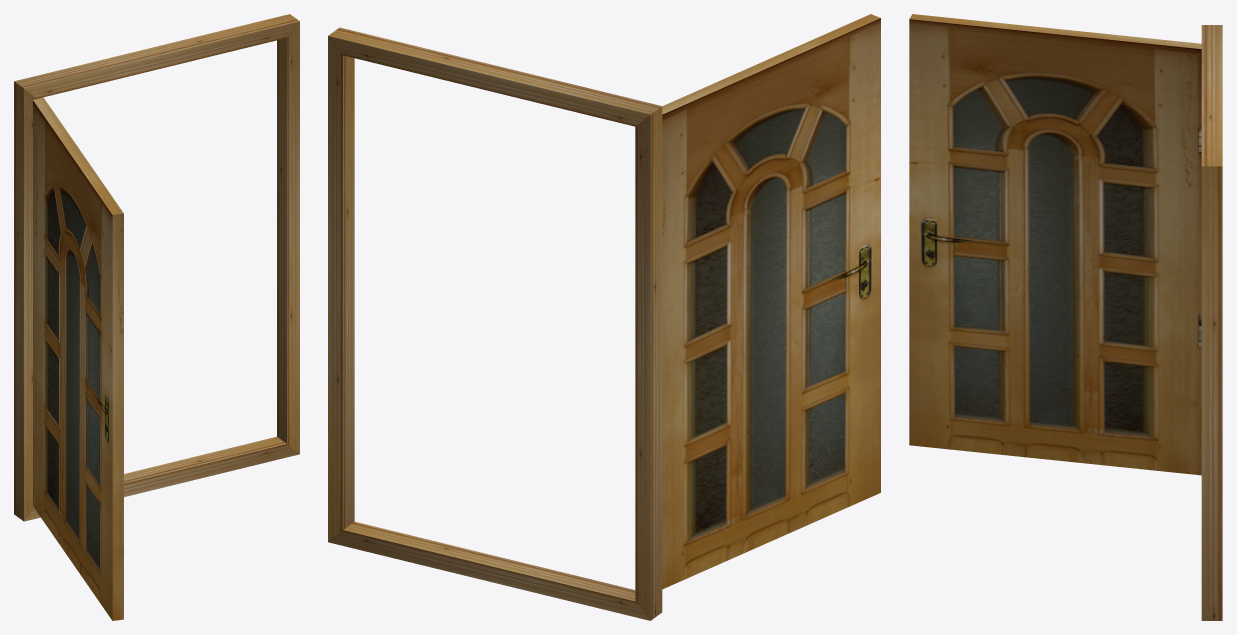
The model's file is door_1C.FBX.
3 renders of one model, left to right at view 1: azimuth 30°, elevation 25°; view 2: azimuth 150°, elevation 25°; view 3: azimuth 270°, elevation 25°, orthographic. The views are drawn at different scales.
Parts seen in each view (by area): view 1: door_1C; view 2: door_1C; view 3: door_1C.
Boxes of the visible parts, left/top/right/bottom form: door_1C: left=14, top=14, right=299, bottom=620; door_1C: left=328, top=14, right=880, bottom=620; door_1C: left=909, top=14, right=1222, bottom=620.
Bounding box in the file's own units: 18.86 × 24 × 14.98.
